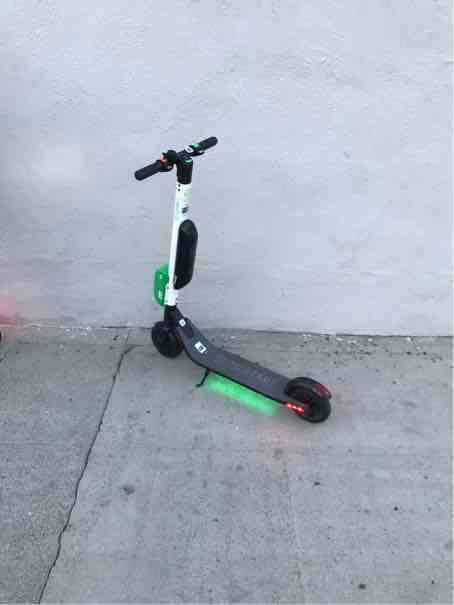scooter: (127, 133, 344, 423)
